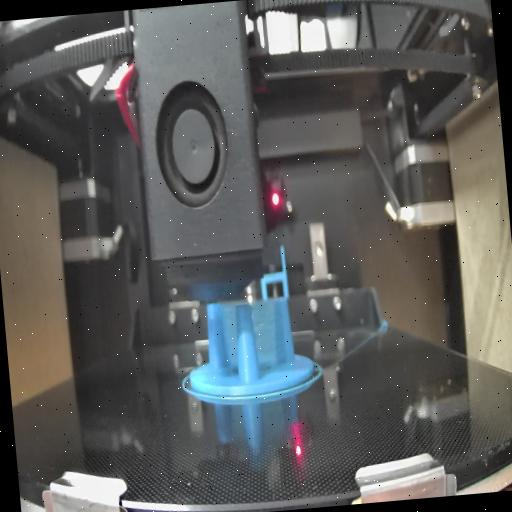stringing: (252, 300, 288, 378), (216, 304, 241, 378)
